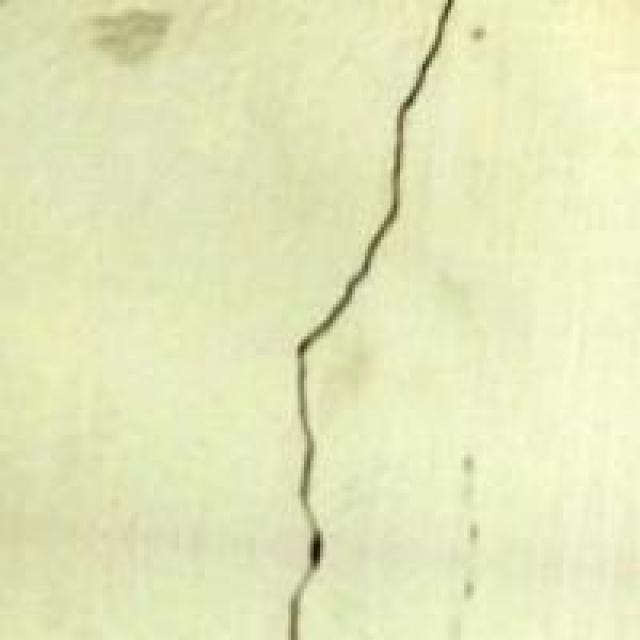crack: (234, 0, 499, 637)
